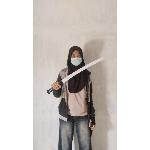Pedang: (43, 54, 111, 96)
